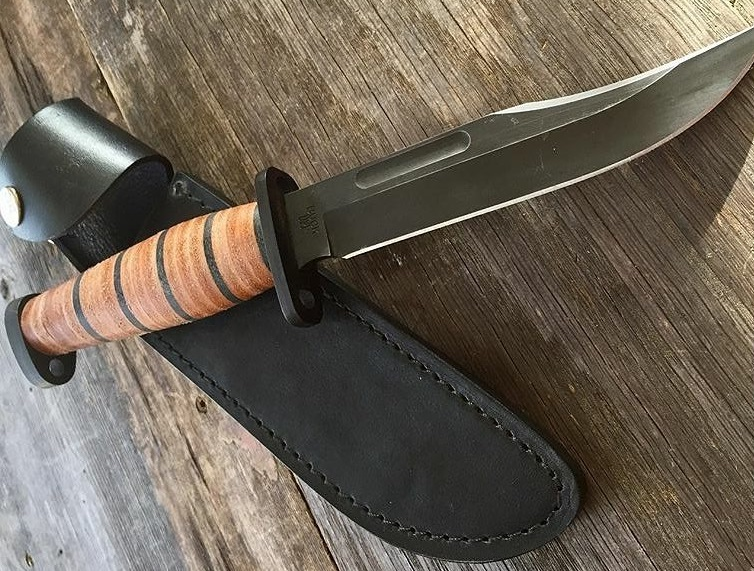knife: (311, 1, 754, 263)
